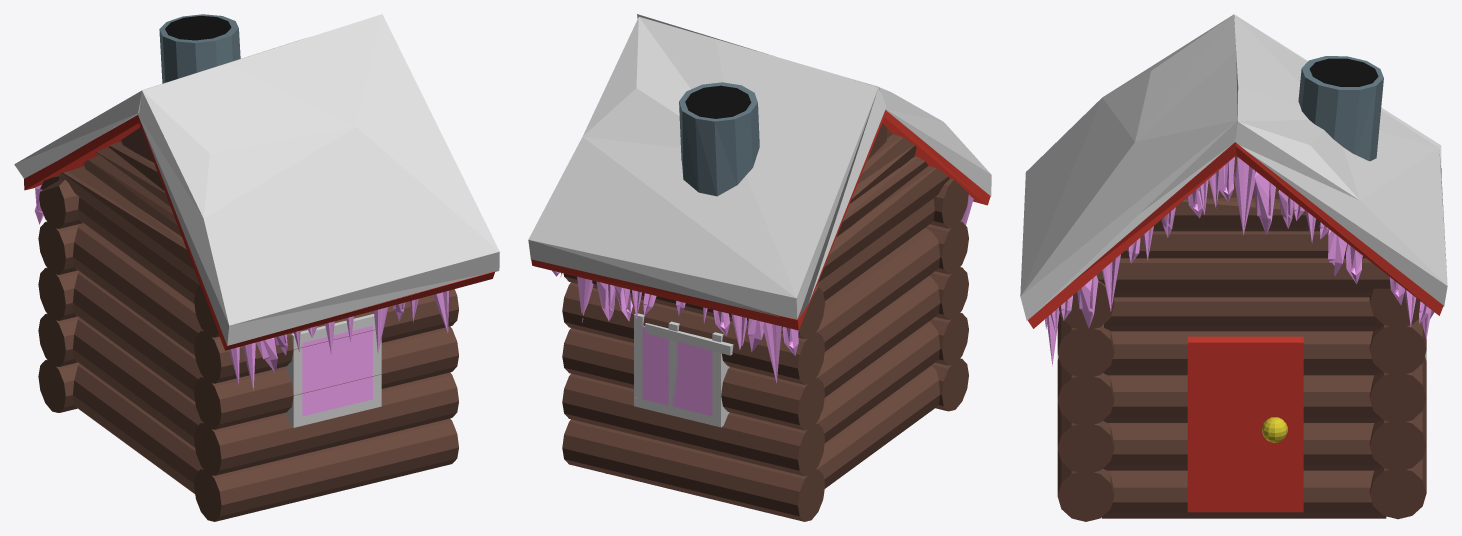
3 renders of one model, left to right at view 1: azimuth 30°, elevation 25°; view 2: azimuth 150°, elevation 25°; view 3: azimuth 270°, elevation 25°, orthographic. The views are drawn at different scales.
Parts seen in each view (by area): view 1: node_MeshObject-1532030976-PolyPaper20, node_MeshObject-959951872-PolyGem25; view 2: node_MeshObject-1532030976-PolyPaper20, node_MeshObject-959951872-PolyGem25; view 3: node_MeshObject-1532030976-PolyPaper20, node_MeshObject-959951872-PolyGem25.
Part boxes in pixels (<box>): node_MeshObject-1532030976-PolyPaper20: <box>14,14,499,521</box>; node_MeshObject-959951872-PolyGem25: <box>34,185,448,416</box>; node_MeshObject-1532030976-PolyPaper20: <box>528,14,991,521</box>; node_MeshObject-959951872-PolyGem25: <box>552,195,973,415</box>; node_MeshObject-1532030976-PolyPaper20: <box>1020,14,1447,521</box>; node_MeshObject-959951872-PolyGem25: <box>1045,157,1434,366</box>.
Bounding box in the file's own units: 0.9792 × 1.32 × 1.22.
